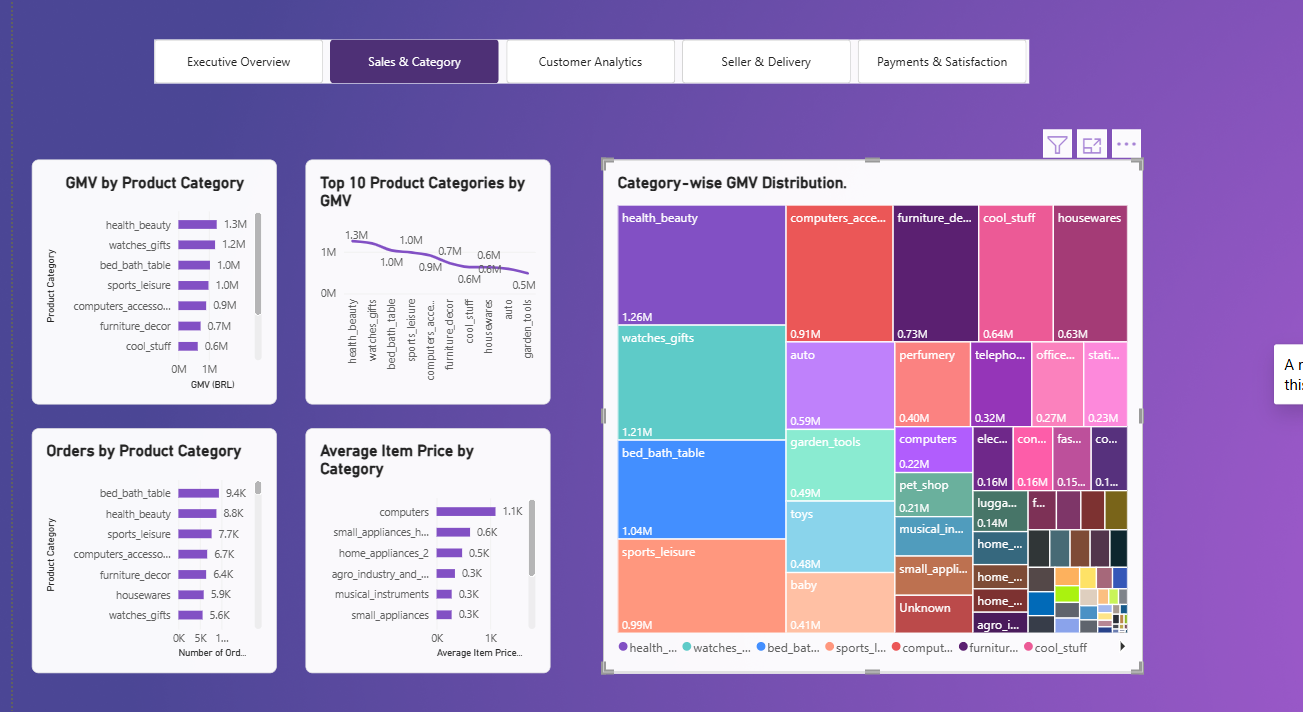

This screenshot's page, from the dashboard's own definition file:
{"tool":"powerbi","page":{"name":"Sales & Category","canvas":[1920,1080],"ordinal":1},"visuals":[{"type":"clusteredBarChart","title":"GMV by Product Category","fields":{"Category":["analytics vw_category_performance.product_category"],"Y":["Sum(analytics vw_category_performance.gmv_brl)"]},"box":[21.7,185,280,280],"z":0},{"type":"lineChart","title":"Top 10 Product Categories by GMV","fields":{"Category":["analytics vw_category_performance.product_category"],"Y":["Sum(analytics vw_category_performance.gmv_brl)"]},"box":[335,185,280,280],"z":1000},{"type":"clusteredBarChart","title":"Orders by Product Category","fields":{"Category":["analytics vw_category_performance.product_category"],"Y":["Sum(analytics vw_category_performance.total_orders)"]},"box":[21.7,493.3,280,280],"z":2000},{"type":"clusteredBarChart","title":"Average Item Price by Category","fields":{"Category":["analytics vw_category_performance.product_category"],"Y":["Sum(analytics vw_category_performance.average_item_price_brl)"]},"box":[335,493.3,280,280],"z":3000},{"type":"treemap","title":"Category-wise GMV Distribution.","fields":{"Group":["analytics vw_category_performance.product_category"],"Values":["Sum(analytics vw_category_performance.gmv_brl)"]},"box":[675,185,616.7,588.3],"z":4000},{"type":"pageNavigator","box":[161.7,48.3,1000,50],"z":5000}]}

Visuals, with their boxes in screenshot pixels (x1, y1, x2, y2), scaled from the page's 1920x1080 canvas onto the 1303x712 screenshot:
"GMV by Product Category" clusteredBarChart: region(15, 122, 205, 307)
"Top 10 Product Categories by GMV" lineChart: region(227, 122, 417, 307)
"Orders by Product Category" clusteredBarChart: region(15, 325, 205, 510)
"Average Item Price by Category" clusteredBarChart: region(227, 325, 417, 510)
"Category-wise GMV Distribution." treemap: region(458, 122, 877, 510)
pageNavigator: region(110, 32, 788, 65)
